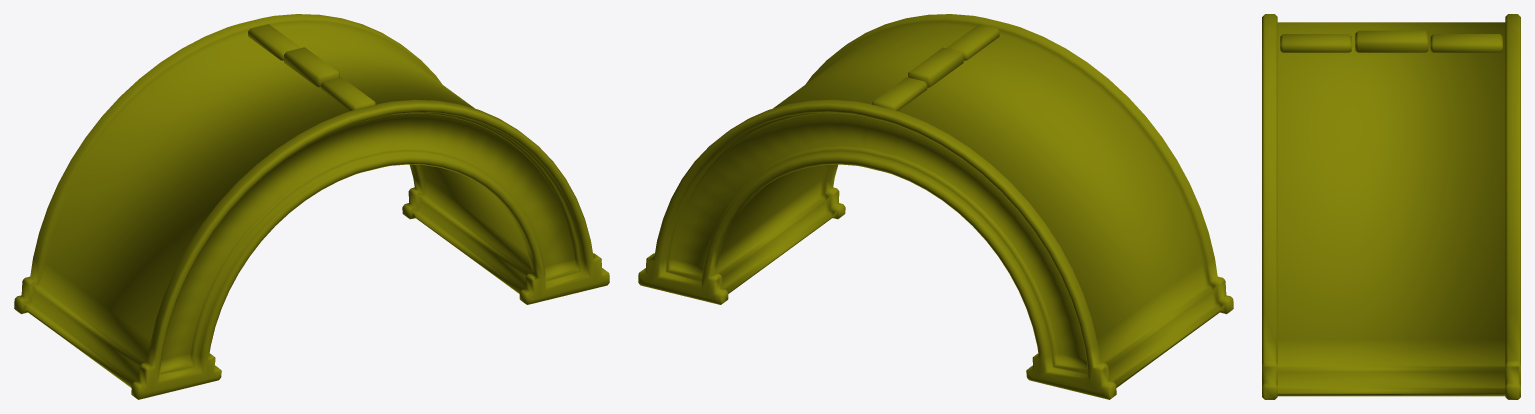
File: W1_Arche_1.fbx
3 renders of one model, left to right at view 1: azimuth 30°, elevation 25°; view 2: azimuth 150°, elevation 25°; view 3: azimuth 270°, elevation 25°, orthographic. The views are drawn at different scales.
Parts seen in each view (by area): view 1: Arche_1; view 2: Arche_1; view 3: Arche_1.
Part boxes in pixels (left/top/right/bottom): Arche_1: left=14, top=14, right=609, bottom=399; Arche_1: left=638, top=14, right=1233, bottom=399; Arche_1: left=1262, top=14, right=1520, bottom=399.
Bounding box in the file's own units: 1097 × 524 × 500.
